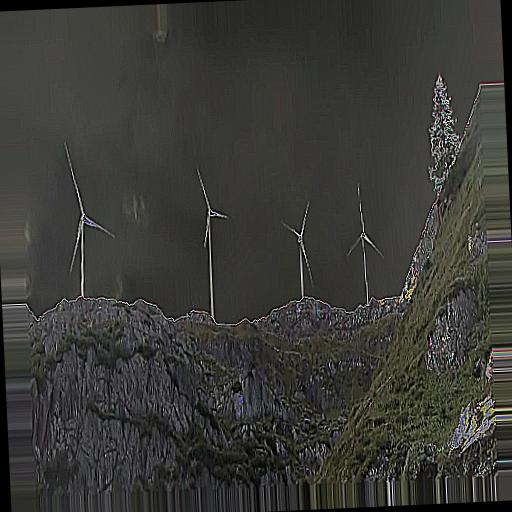wind turbine: (59, 141, 118, 299), (193, 168, 230, 317), (346, 184, 387, 306), (278, 199, 318, 302)
